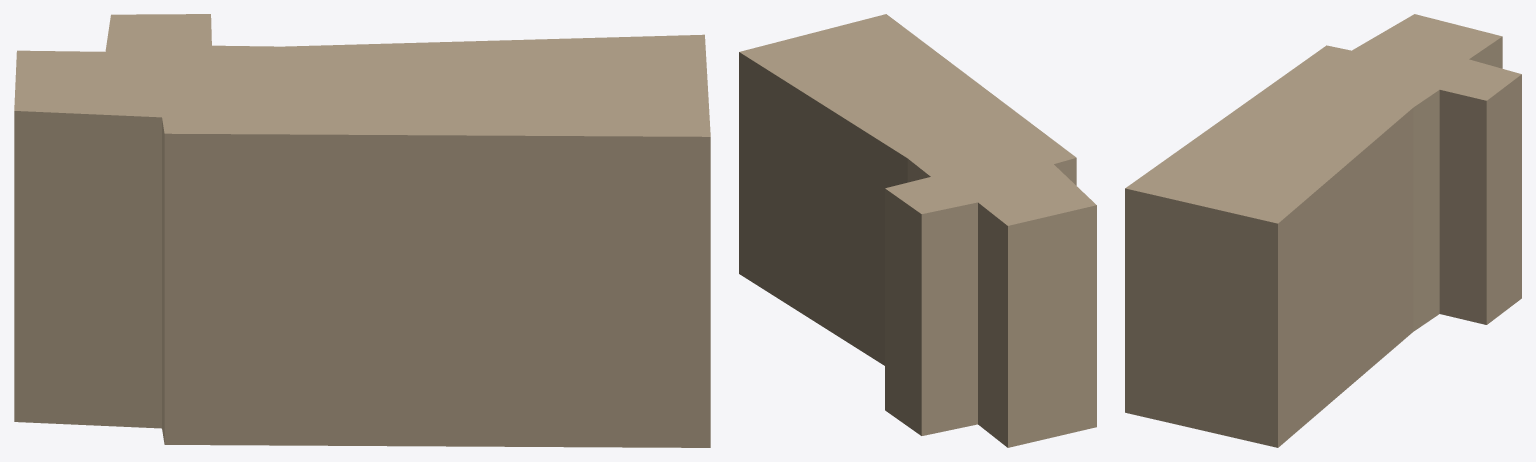
File: bld_99616011.dae
The picture shows the model from 3 angles, left to right: view 1: azimuth 30°, elevation 25°; view 2: azimuth 150°, elevation 25°; view 3: azimuth 270°, elevation 25°; orthographic projection. The views are drawn at different scales.
Parts seen in each view (by area): view 1: bld_99616011; view 2: bld_99616011; view 3: bld_99616011.
Boxes of the visible parts, bbox=[...] form: bld_99616011: bbox=[14, 14, 710, 447]; bld_99616011: bbox=[739, 14, 1096, 447]; bld_99616011: bbox=[1125, 14, 1521, 447].
Bounding box in the file's own units: 16.04 × 12.82 × 8.
